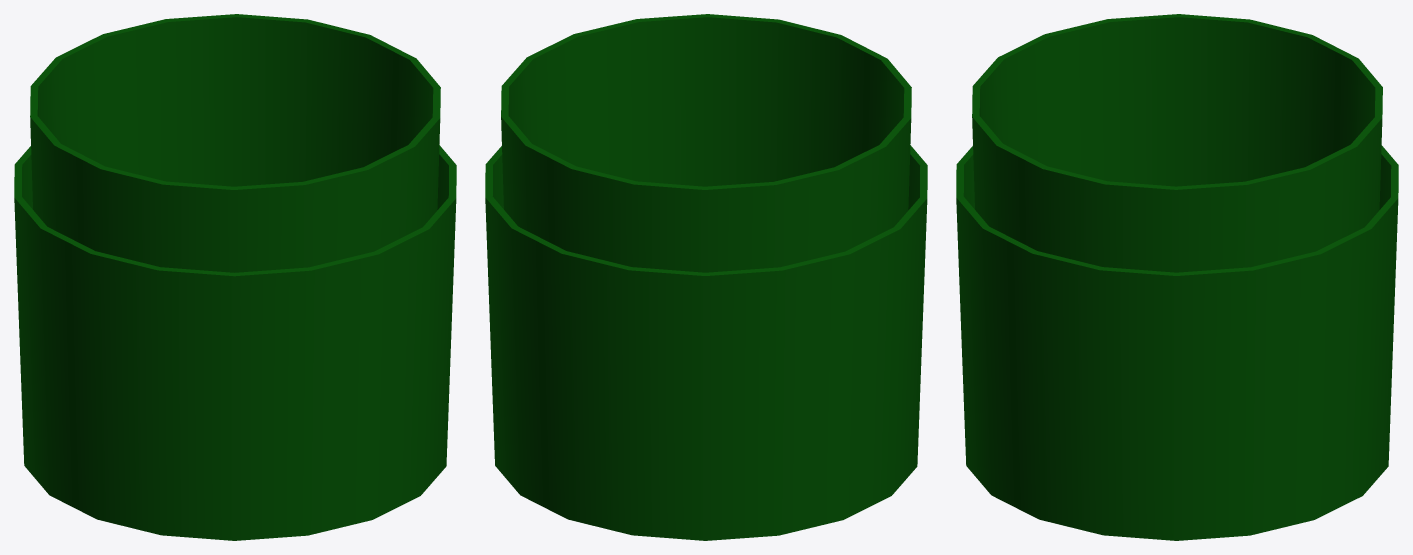
Rendered from jug09.FBX.
3 views of the same model, side by side, from view 1: azimuth 30°, elevation 25°; view 2: azimuth 150°, elevation 25°; view 3: azimuth 270°, elevation 25° (orthographic).
Parts seen in each view (by area): view 1: SM_jug09_0; view 2: SM_jug09_0; view 3: SM_jug09_0.
Boxes of the visible parts, box(x1,y1,x2,y2) form: SM_jug09_0: box(14, 14, 456, 540); SM_jug09_0: box(485, 14, 927, 540); SM_jug09_0: box(956, 14, 1398, 540).
Size of the model in its own units: 32.01 by 31.55 by 27.42.
